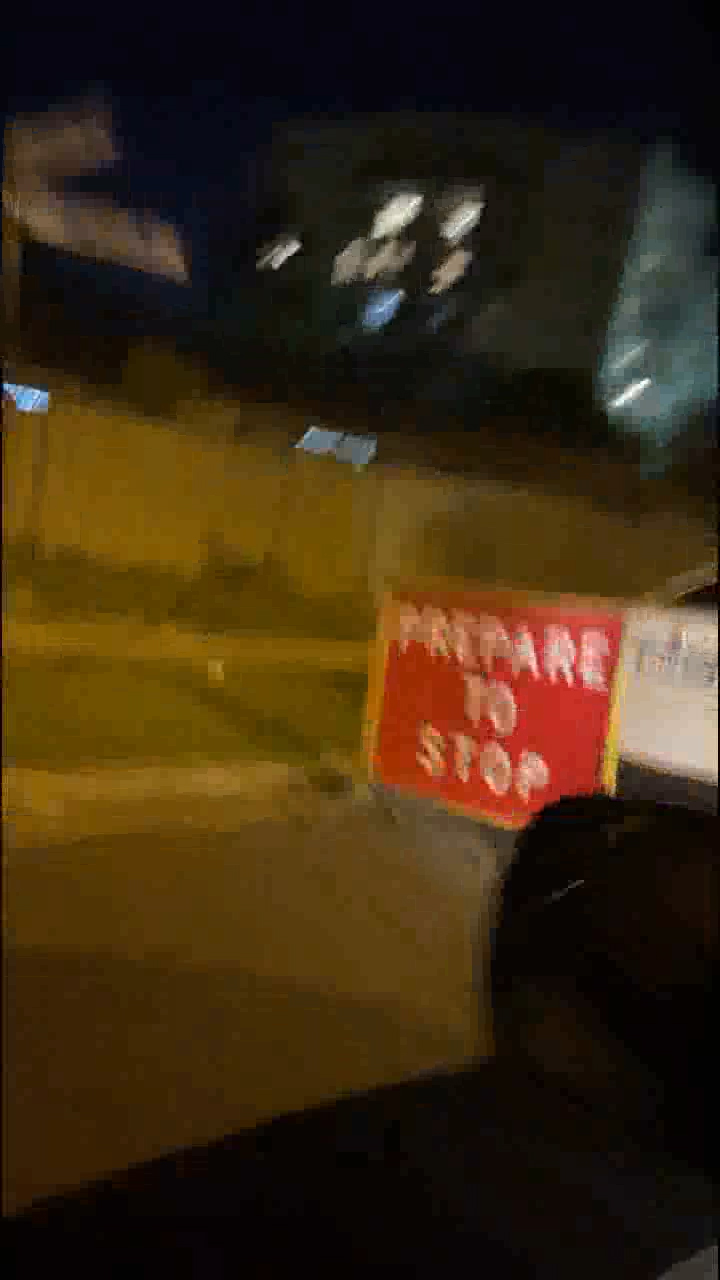prepare to stop board: (341, 598, 620, 810)
